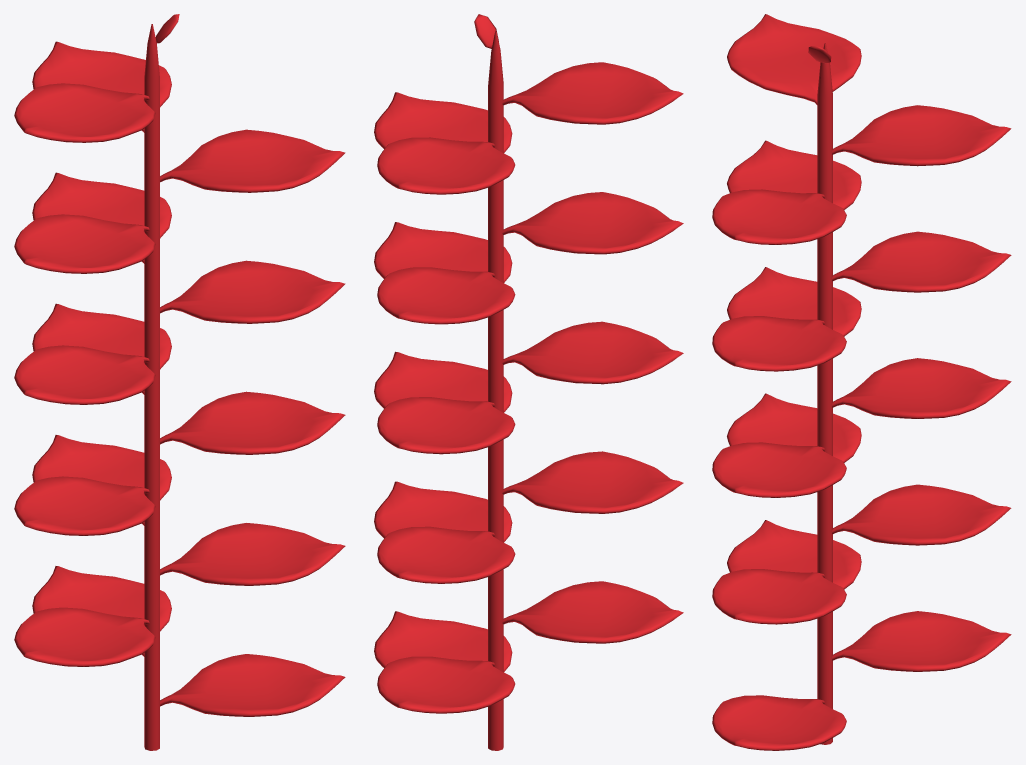
File: Ludwigia.fbx
The picture shows the model from 3 angles, left to right: view 1: azimuth 30°, elevation 25°; view 2: azimuth 150°, elevation 25°; view 3: azimuth 270°, elevation 25°; orthographic projection. The views are drawn at different scales.
Parts seen in each view (by area): view 1: Stem.001; view 2: Stem.001; view 3: Stem.001.
Boxes of the visible parts, box(x1,y1,x2,y2) form: Stem.001: box(14, 14, 345, 750); Stem.001: box(374, 14, 683, 750); Stem.001: box(712, 14, 1011, 750).
Bounding box in the file's own units: 11.72 × 26.73 × 10.27.
